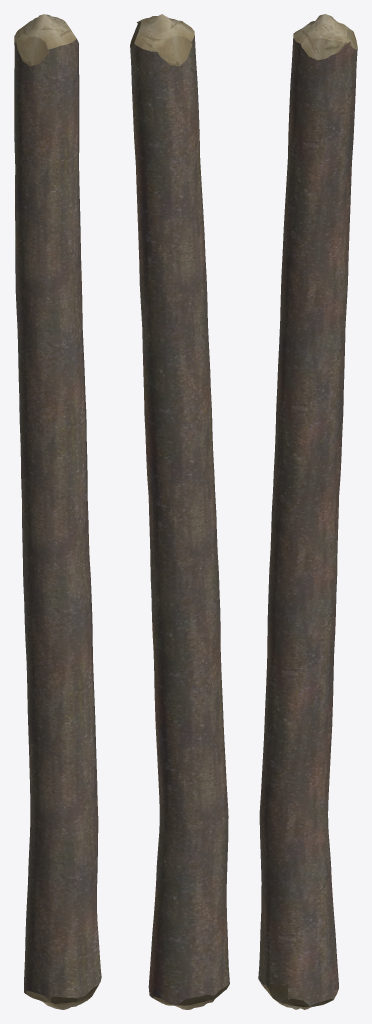
3 views of the same model, side by side, from view 1: azimuth 90°, elevation 25°; view 2: azimuth 150°, elevation 25°; view 3: azimuth 330°, elevation 25° (orthographic).
Visible parts, largest first — view 1: SM_BM_Ash_Tree_02_tree_quarters_bottom_LOD0; view 2: SM_BM_Ash_Tree_02_tree_quarters_bottom_LOD0; view 3: SM_BM_Ash_Tree_02_tree_quarters_bottom_LOD0.
Part boxes in pixels (bbox=[...]): SM_BM_Ash_Tree_02_tree_quarters_bottom_LOD0: bbox=[14, 14, 101, 1009]; SM_BM_Ash_Tree_02_tree_quarters_bottom_LOD0: bbox=[130, 14, 229, 1009]; SM_BM_Ash_Tree_02_tree_quarters_bottom_LOD0: bbox=[258, 14, 357, 1009].
Bounding box in the file's own units: 0.5402 × 6.34 × 0.5092.
1 material, 1 textured.
